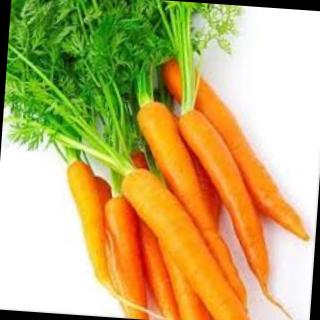Wortel: (124, 100, 264, 313), (104, 164, 271, 320), (96, 194, 159, 320), (58, 159, 118, 286)
